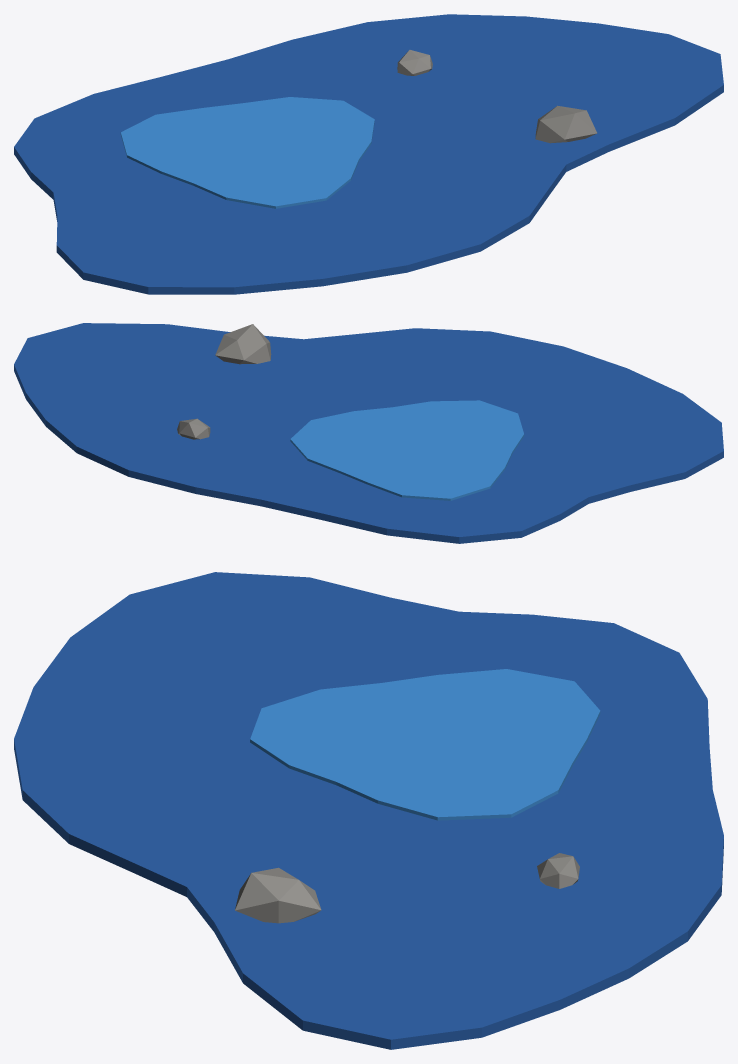
Rendered from puddle-pixor.glb.
3 renders of one model, top to bottom at view 1: azimuth 30°, elevation 25°; view 2: azimuth 150°, elevation 25°; view 3: azimuth 270°, elevation 25°, orthographic. The views are drawn at different scales.
Visible parts, largest first — view 1: Puddle water, Puddle shine, Puddle pebbles; view 2: Puddle water, Puddle shine, Puddle pebbles; view 3: Puddle water, Puddle shine, Puddle pebbles.
Boxes of the visible parts, left/top/right/bottom form: Puddle water: left=14, top=14, right=723, bottom=294; Puddle shine: left=120, top=97, right=374, bottom=208; Puddle pebbles: left=397, top=50, right=597, bottom=143; Puddle water: left=14, top=323, right=723, bottom=543; Puddle shine: left=290, top=400, right=524, bottom=500; Puddle pebbles: left=177, top=324, right=271, bottom=439; Puddle water: left=14, top=572, right=723, bottom=1049; Puddle shine: left=250, top=669, right=600, bottom=820; Puddle pebbles: left=235, top=853, right=579, bottom=923.
Bounding box in the file's own units: 1.18 × 0.0542 × 0.759.
